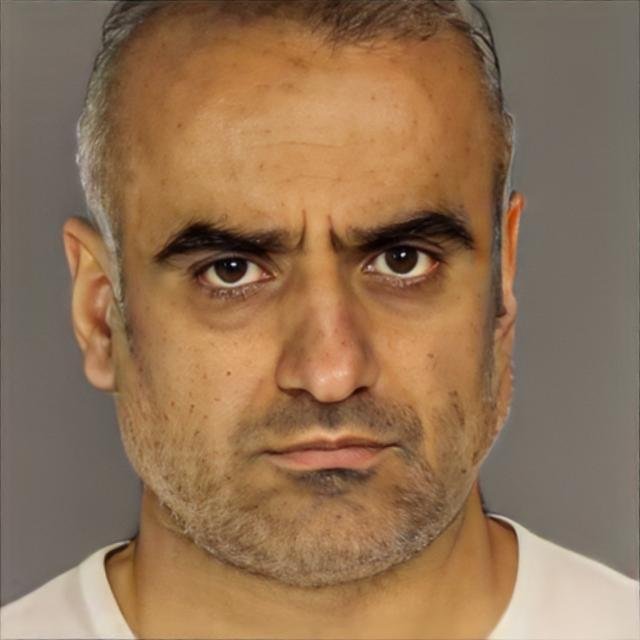anger: (116, 38, 499, 584)
